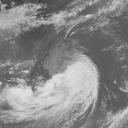cyclone: (9, 54, 97, 123)
